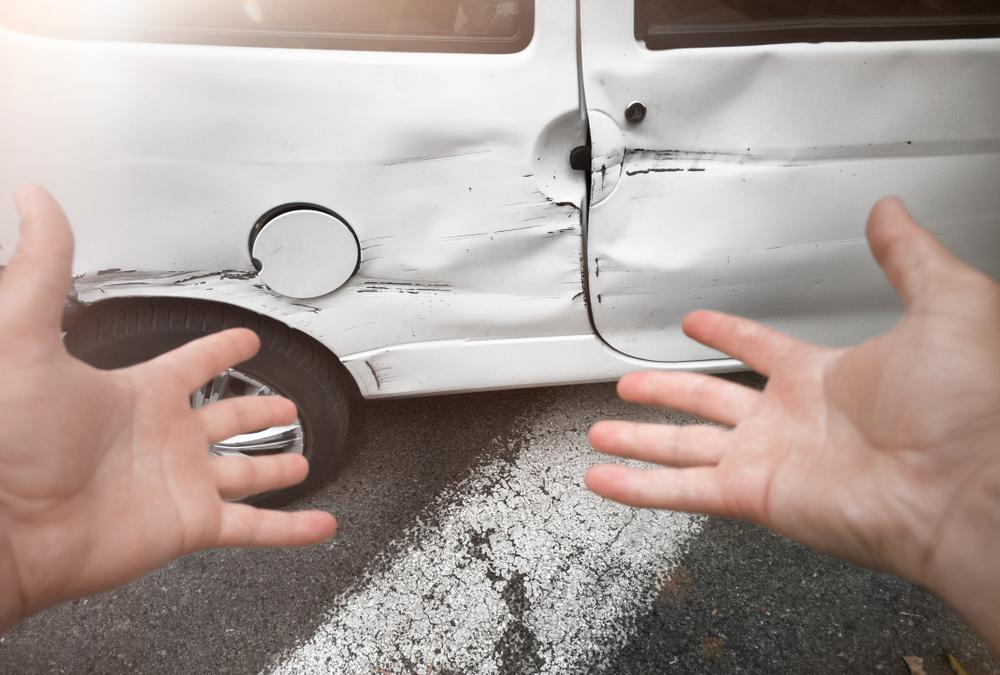dent: (600, 53, 984, 270), (368, 127, 589, 327)
scratch: (70, 266, 323, 321)
